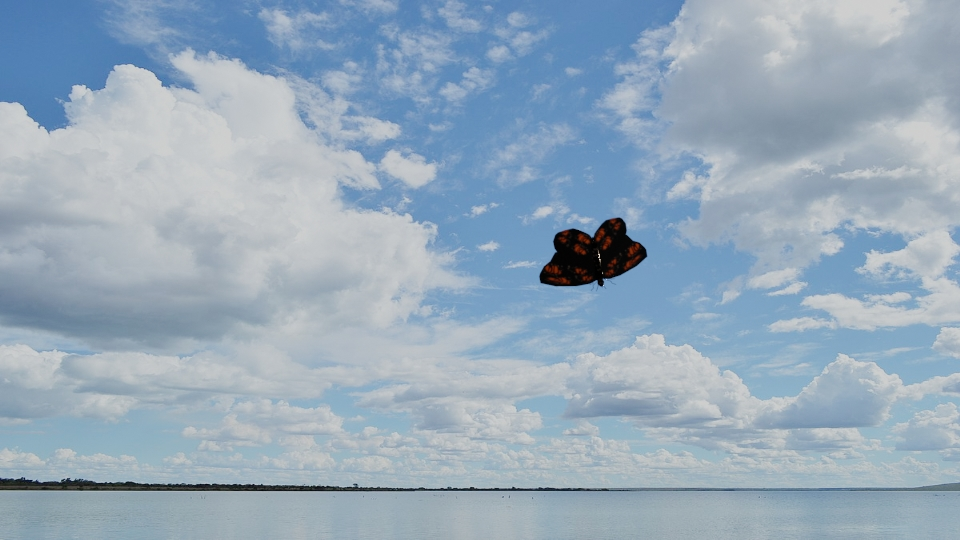insect: (540, 217, 646, 289)
